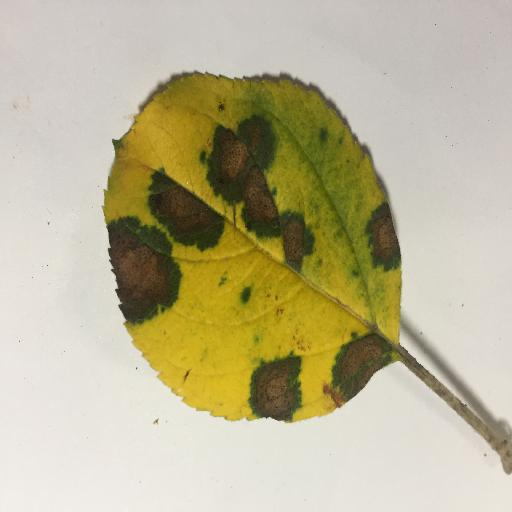Brown_Spot: (204, 136, 317, 266), (105, 221, 176, 314), (333, 332, 399, 409), (151, 177, 217, 248), (253, 358, 302, 419), (366, 208, 402, 266)
